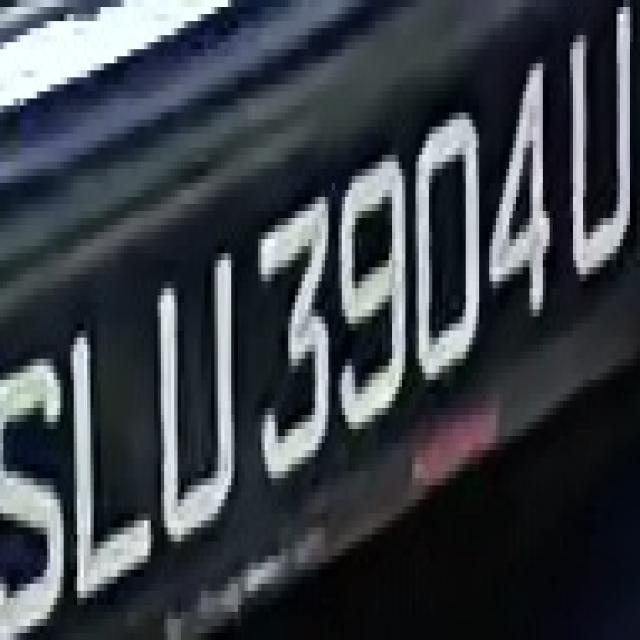0: (399, 98, 496, 401)
3: (245, 183, 342, 499)
4: (482, 49, 560, 338)
9: (332, 134, 409, 415)
L: (57, 316, 157, 619)
S: (7, 330, 60, 626)
U: (144, 260, 248, 542), (563, 7, 633, 288)
